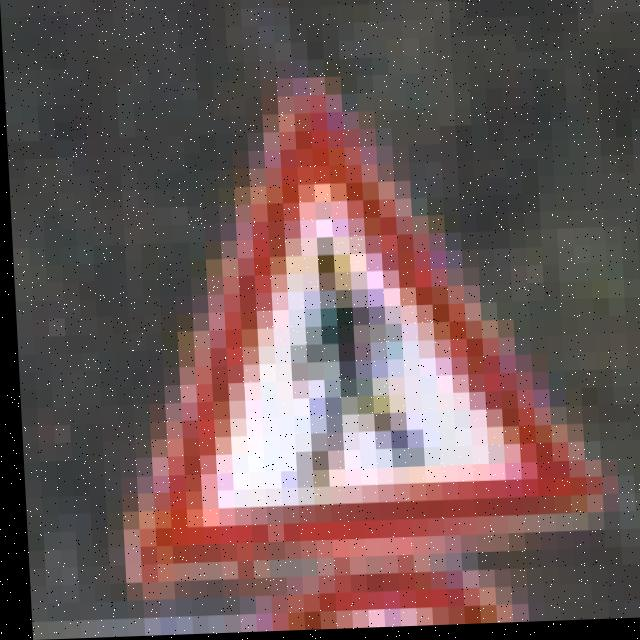crosswalk: (138, 115, 629, 554)
